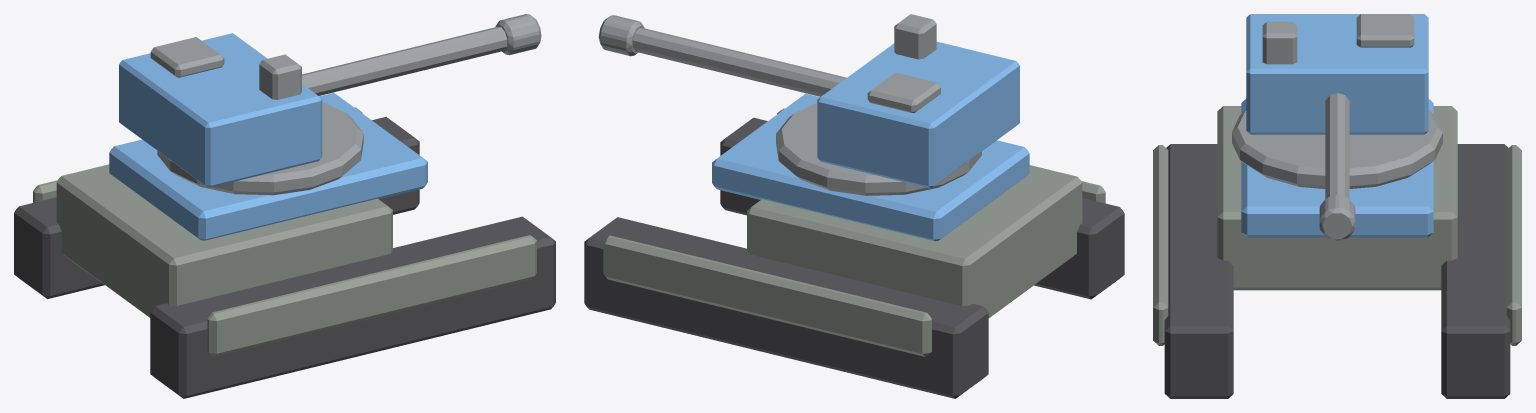
Rendered from bulwark.glb.
The picture shows the model from 3 angles, left to right: view 1: azimuth 30°, elevation 25°; view 2: azimuth 150°, elevation 25°; view 3: azimuth 270°, elevation 25°; orthographic projection.
Visible parts, largest first — view 1: Hull, Turret; view 2: Hull, Turret; view 3: Hull, Turret.
Part boxes in pixels (x1=…): Hull: x1=14, y1=92, x2=555, y2=398; Turret: x1=119, y1=14, x2=541, y2=187; Hull: x1=584, y1=93, x2=1124, y2=398; Turret: x1=598, y1=14, x2=1019, y2=188; Hull: x1=1153, y1=99, x2=1521, y2=398; Turret: x1=1246, y1=14, x2=1428, y2=240.
Size of the model in its own units: 2.67 by 1.52 by 1.92.
